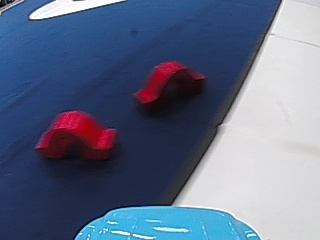bridge: (31, 107, 118, 162), (127, 58, 210, 113)
